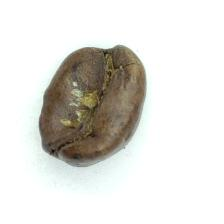NG: (37, 45, 122, 144)
